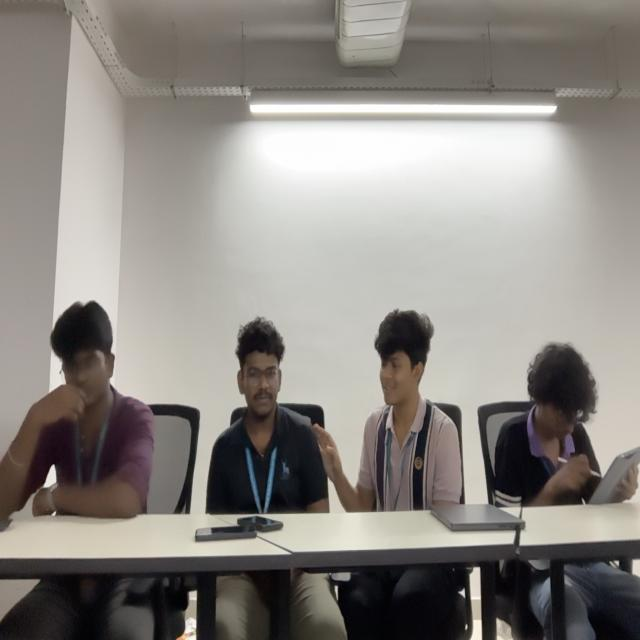Isolated: (0, 299, 151, 518), (493, 342, 640, 505)
socializing: (207, 316, 462, 508)
